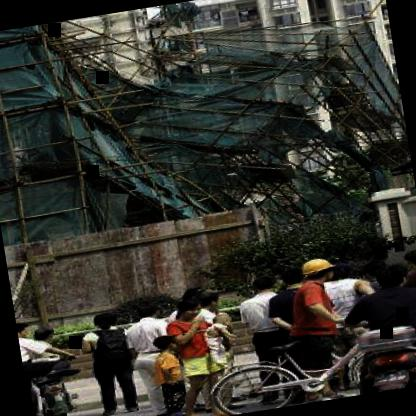head: (374, 262, 416, 292), (83, 308, 120, 333), (129, 296, 164, 322), (328, 260, 359, 284), (247, 272, 278, 296), (191, 288, 224, 310), (279, 266, 308, 291), (169, 298, 200, 318), (34, 324, 59, 346), (15, 316, 33, 340), (400, 247, 416, 272)
helmet: (297, 253, 340, 287)
